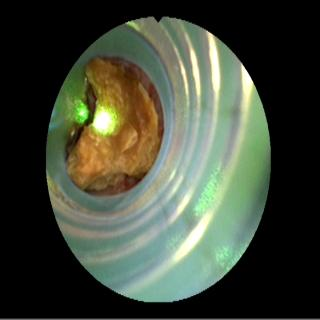laser: (93, 108, 117, 135), (76, 103, 89, 122)
stone: (67, 60, 159, 193)
